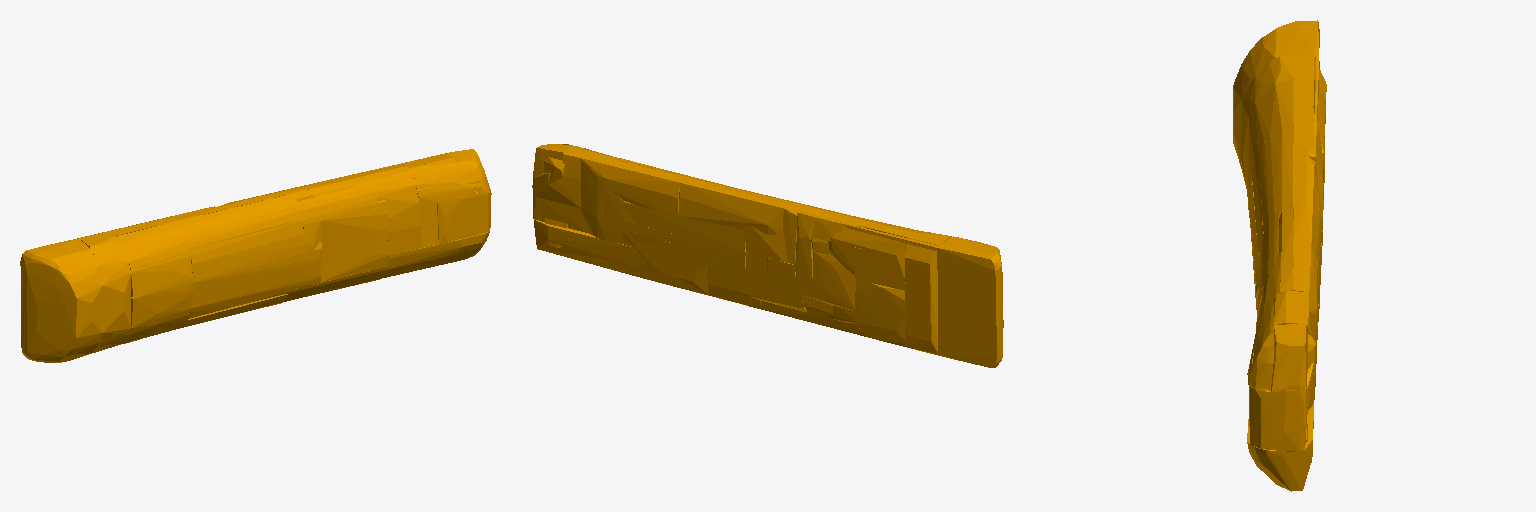
The robot description file, URDF, robot "remote-silver":
<?xml version="1.0" ?>
<robot name="remote-silver">
  <link name="baseLink">
    <contact>
      <lateral_friction value="1.0"/>
      <inertia_scaling value="3.0"/>
    </contact>
    <inertial>
      <origin rpy="0 0 0" xyz="0.000 0.000 0.000"/>
       <mass value=".1"/>
       <inertia ixx="1" ixy="0.0" ixz="0.0" iyy="1" iyz="0.0" izz="1"/>
    </inertial>
    <visual>
      <origin rpy="0 0 0" xyz="0 0 0"/>
      <geometry>
        <mesh filename="remote/remote-silver.obj" scale="1.0 1.0 1.0"/>
      </geometry>
    </visual>
    <collision>
      <origin rpy="0 0 0" xyz="0 0 0"/>
      <geometry>
        <mesh filename="../collision/remote/remote-silver.obj" scale="1.0 1.0 1.0"/>
      </geometry>
    </collision>
  </link>
</robot>
        

--- Render facts (derived) ---
Views: 3 orthographic renders of the robot side by side, from view 1: azimuth 30°, elevation 25°; view 2: azimuth 150°, elevation 25°; view 3: azimuth 270°, elevation 25°.
Robot: remote-silver — 1 links, 0 joints (none); root link baseLink; default pose: all joints at 0.
Visible links, largest first — view 1: baseLink; view 2: baseLink; view 3: baseLink.
Boxes of the visible links, x1=… form: baseLink: x1=20, y1=149, x2=491, y2=362; baseLink: x1=532, y1=144, x2=1003, y2=367; baseLink: x1=1233, y1=20, x2=1326, y2=491.
Bounding box of the posed robot: 0.2178 × 0.0262 × 0.0492 m (x, y, z).
Meshes: 1 distinct files referenced, 1 mesh visuals loaded (1 OBJ).